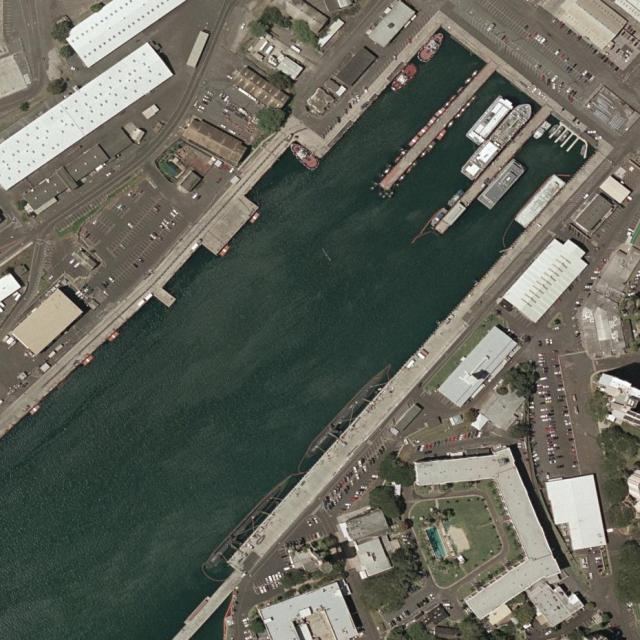Dock: (432, 105, 552, 236), (381, 62, 494, 190)
Hovercraft: (287, 138, 321, 173), (415, 30, 448, 64), (387, 60, 420, 94)
Other Warship: (459, 98, 537, 184), (464, 94, 513, 148)
Submarine: (303, 361, 394, 458), (204, 471, 293, 570)
